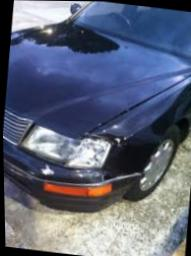Light: (19, 124, 106, 171)
